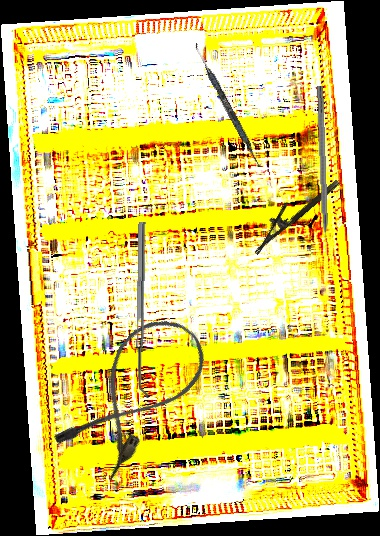Cannula: (48, 302, 219, 487)
Hook Surgical: (315, 85, 329, 255)
Needle Holder: (243, 168, 341, 255)
Spatula Surgical: (190, 42, 264, 168), (135, 221, 153, 399)
